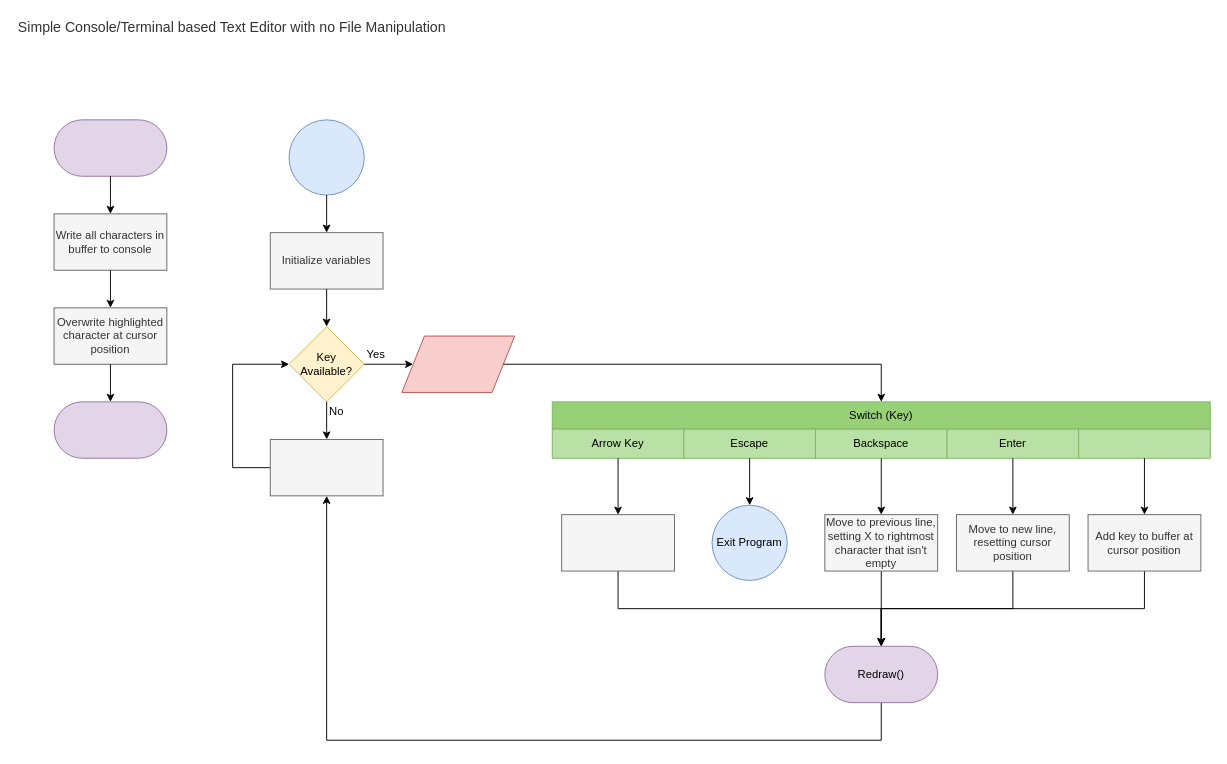
Some shapes in this 1227 by 764 pixel diagram are drawn without their labels. Here are the shapes that lost their labels. From the top down, the box of each, then its label:
(53, 119, 167, 176): START Redraw()
(288, 119, 364, 195): Program Entry
(401, 335, 515, 392): Get Key
(53, 401, 167, 458): END Redraw()
(1078, 428, 1210, 458): Anything else
(269, 439, 383, 496): Wait 10 milliseconds
(561, 514, 674, 571): Move Cursor corresponding to arrow key
